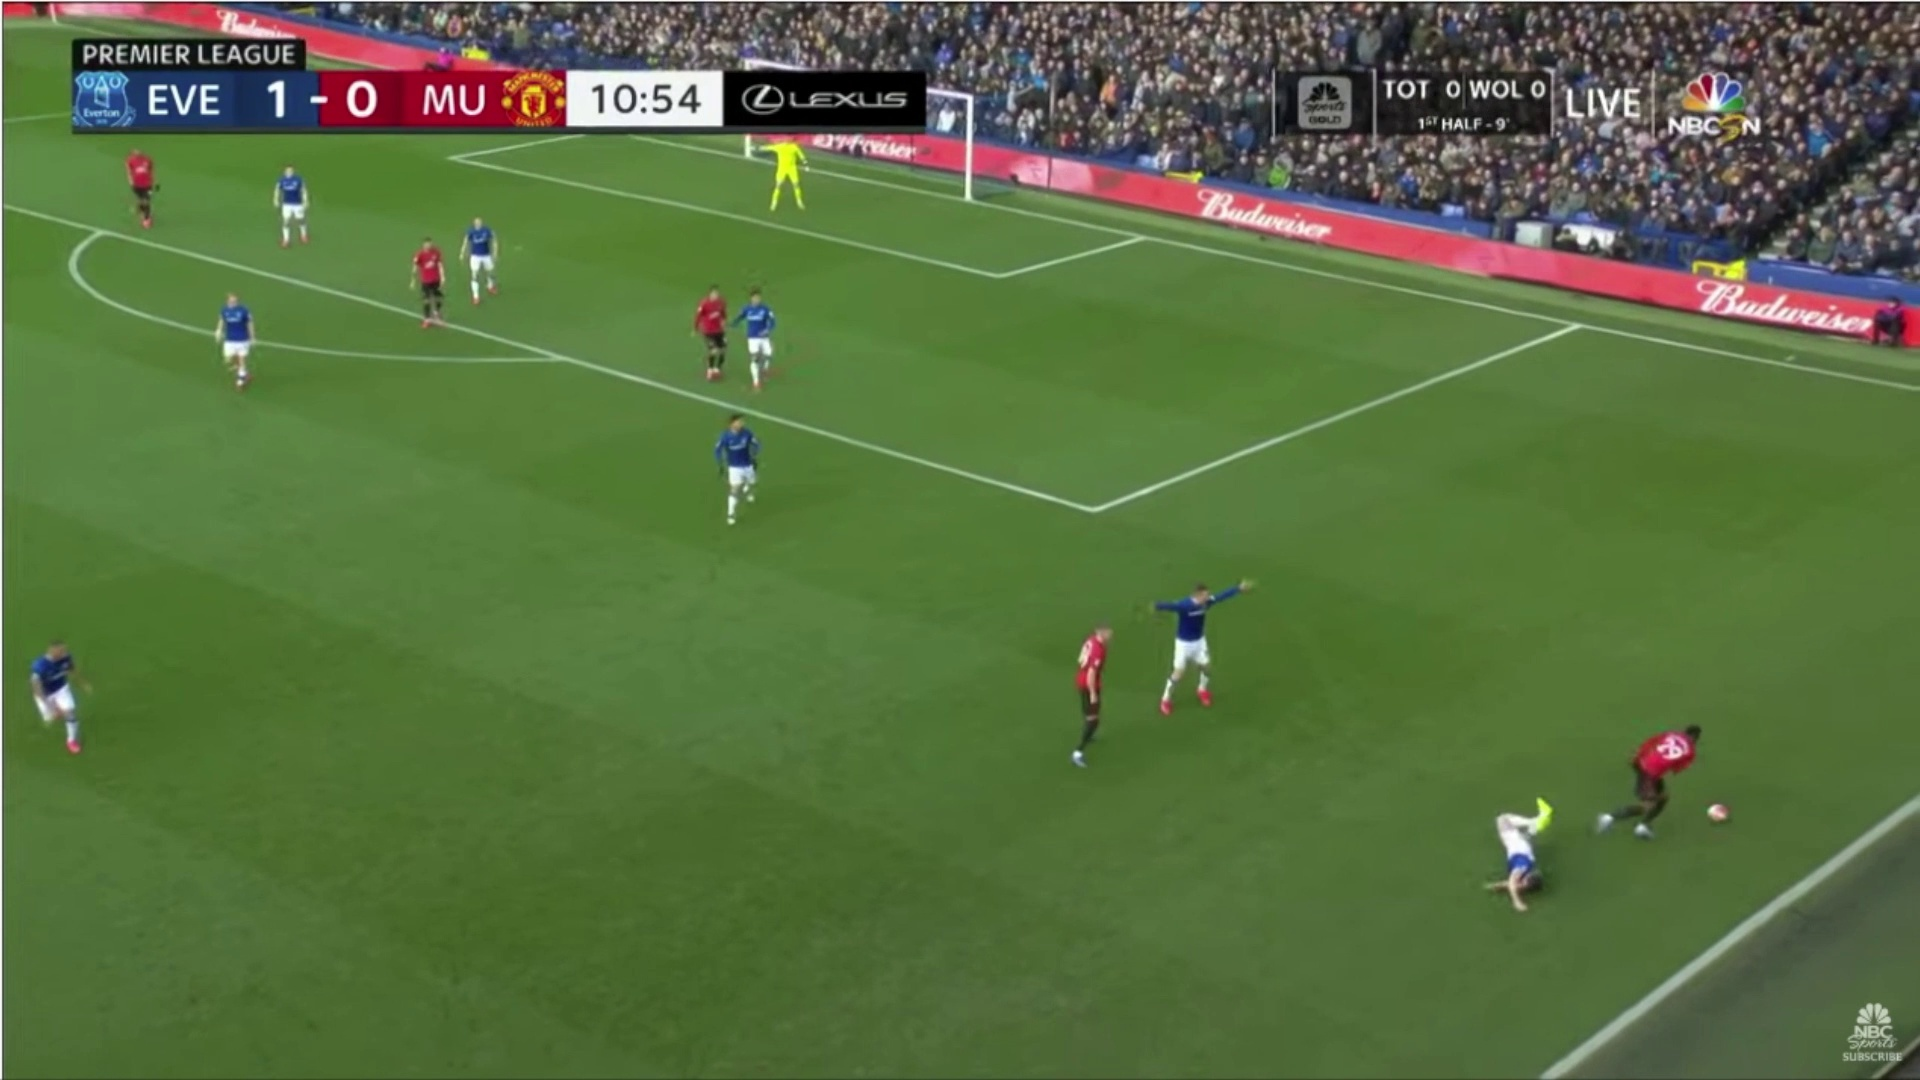ball: (1691, 792, 1749, 840)
player: (1143, 560, 1275, 731), (1464, 773, 1591, 935), (12, 612, 120, 771), (1595, 700, 1704, 850), (691, 412, 793, 531), (1058, 610, 1129, 775), (187, 277, 281, 398), (254, 154, 331, 265), (454, 192, 524, 313), (737, 263, 797, 388), (110, 138, 181, 238), (677, 275, 739, 387), (395, 225, 456, 335), (756, 125, 824, 221)
